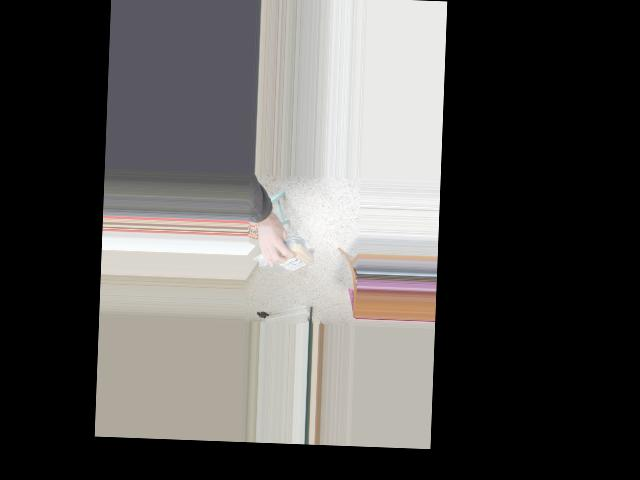cheese: (253, 241, 314, 273)
